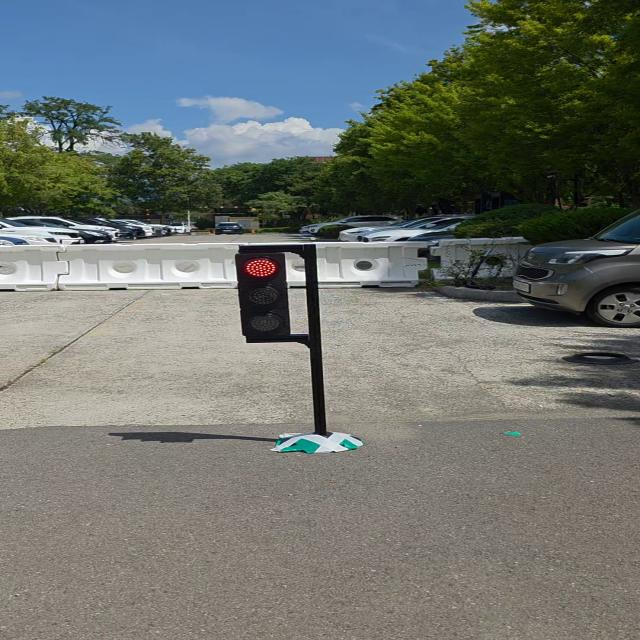red: (230, 250, 298, 344)
